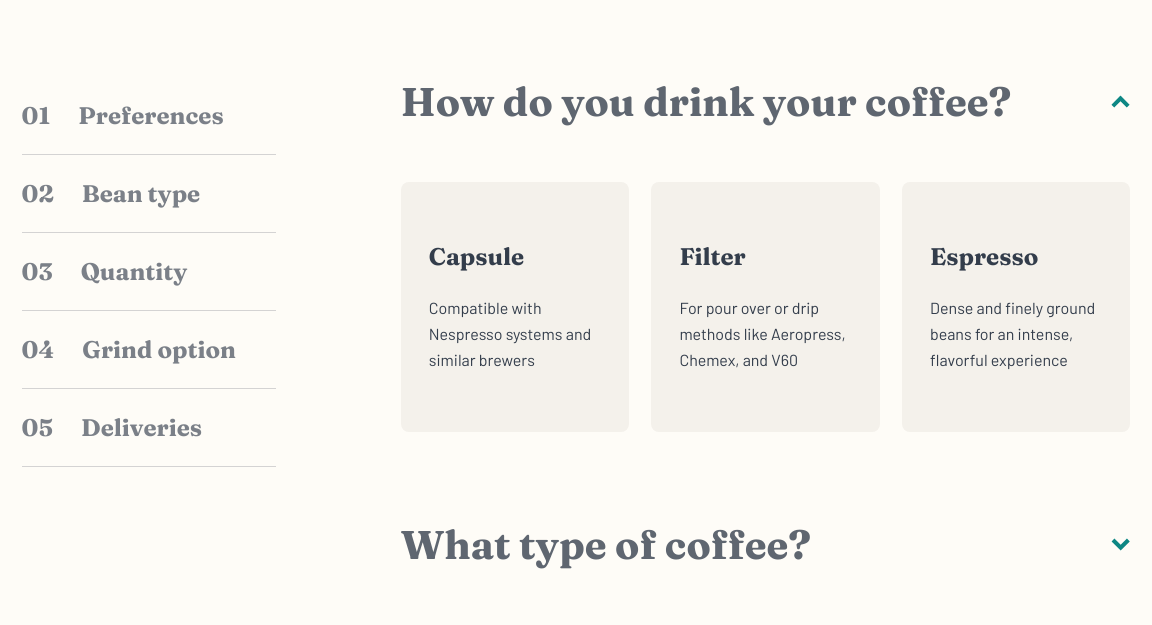
Test: Coffeeroasters › creates a complete plan and calculates its modal price
This screenshot has width=1152, height=625.
(page scrolled)
Click the button with aria-label "Filter Preferences": (766, 307) [652,182,880,432]
(page scrolled)
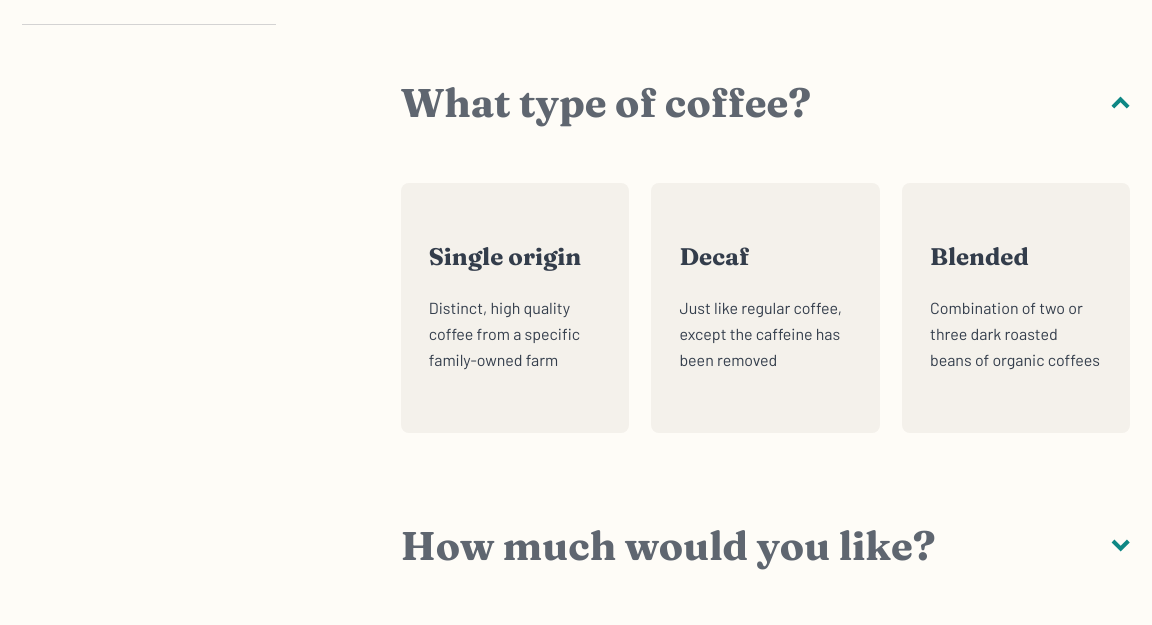
Click the button with aria-label "Single origin Bean type": (515, 308) [401,183,629,433]
(page scrolled)
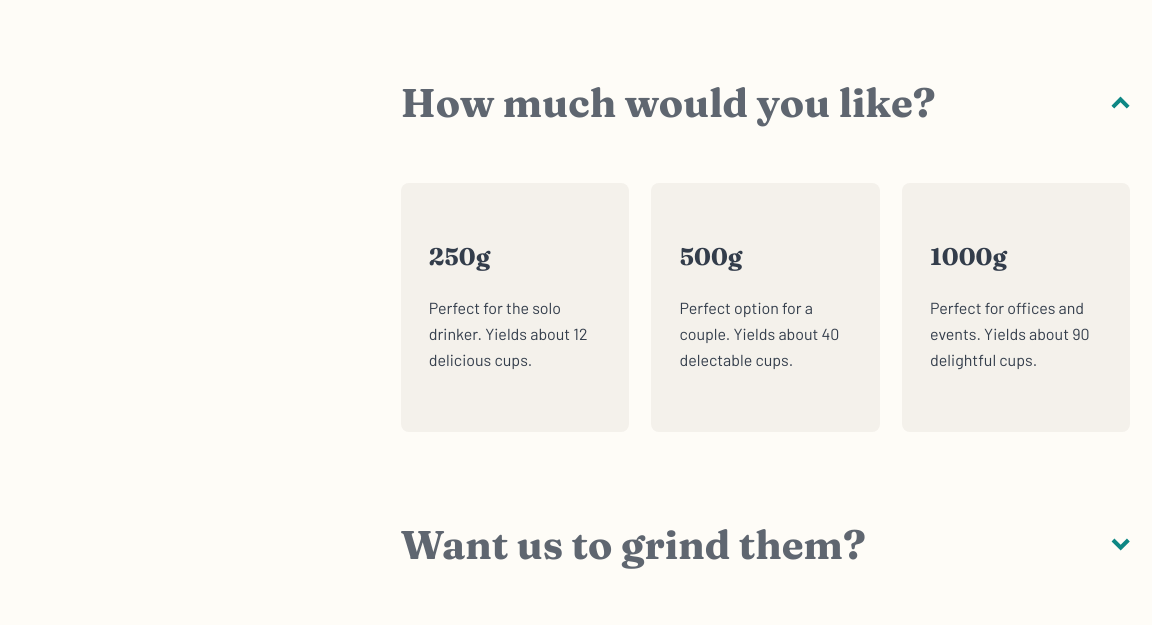
Click the button with aria-label "500g Quantity": (766, 307) [652,183,880,432]
(page scrolled)
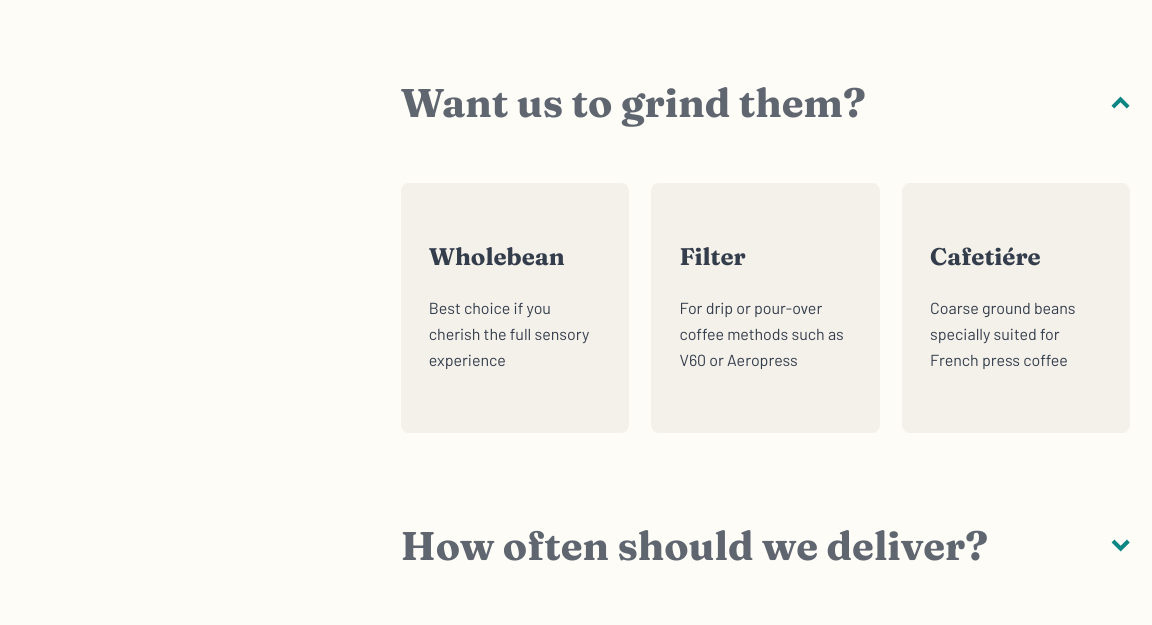
Click the button with aria-label "Wholebean Grind option": (515, 308) [401,183,629,433]
(page scrolled)
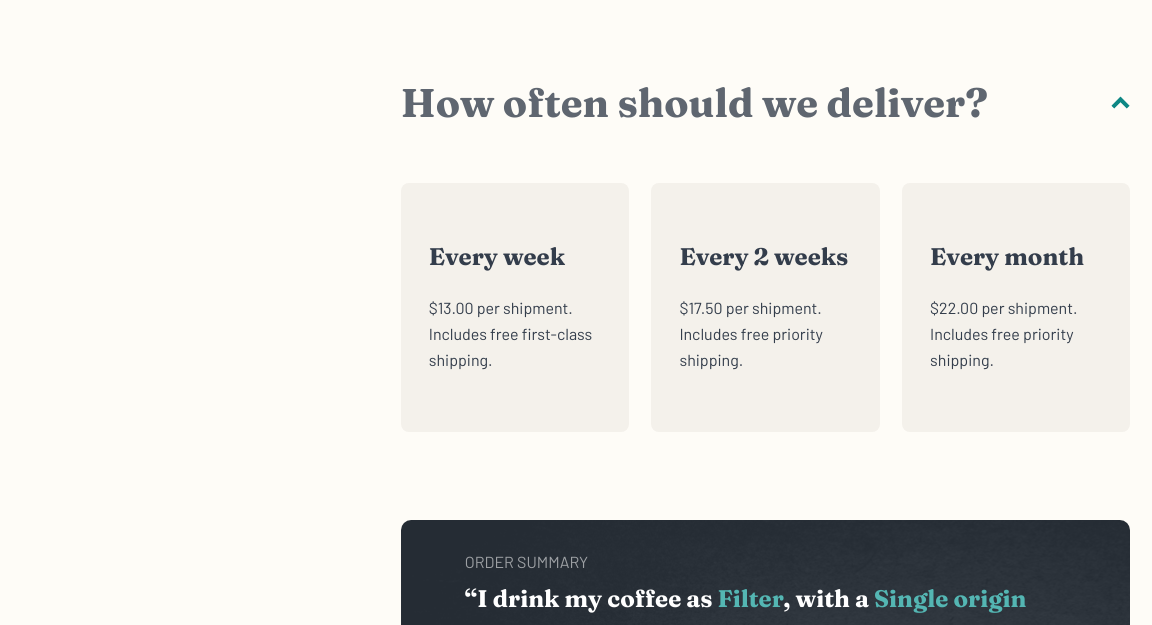
Click the button with aria-label "Every 2 weeks Deliveries": (766, 308) [652,183,880,432]
(page scrolled)
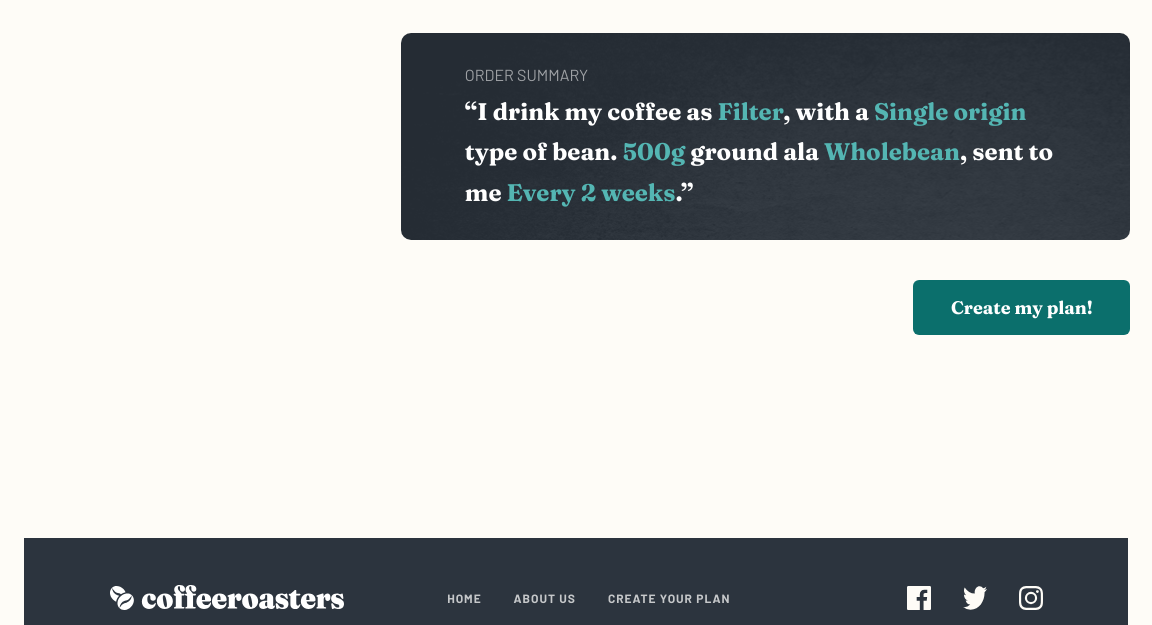
expect the button "Create my plan!" is enabled: met
Click the button "Create my plan!": (1022, 308) [913,280,1130,336]
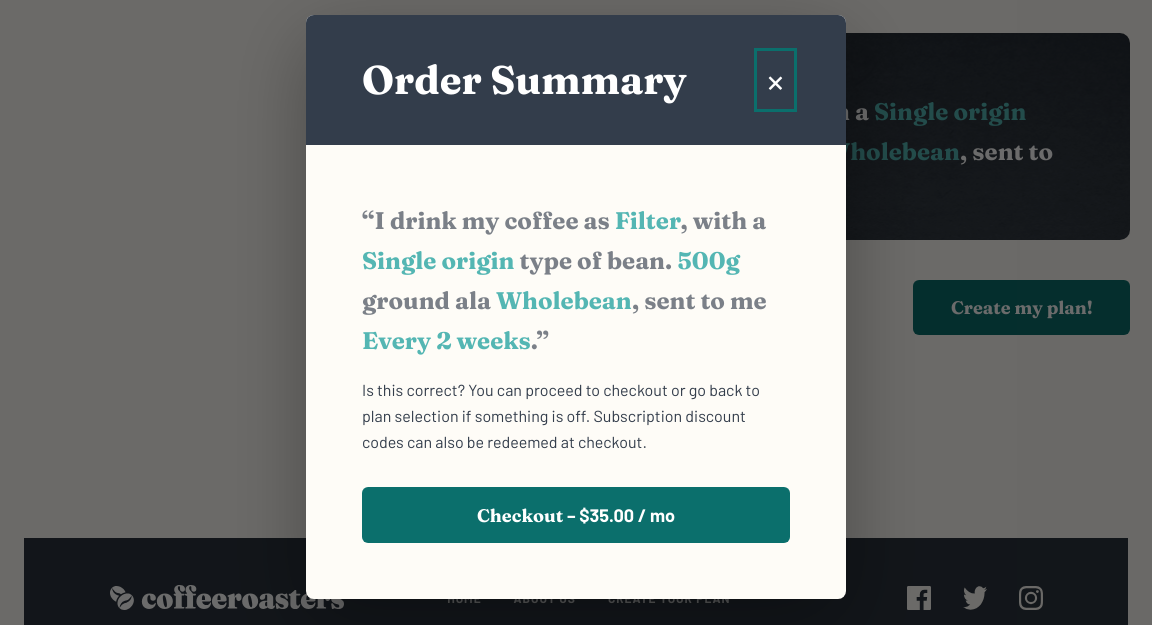
expect the dialog "Order Summary" shows "$35.00 / mo": met, box [306,15,846,599]
